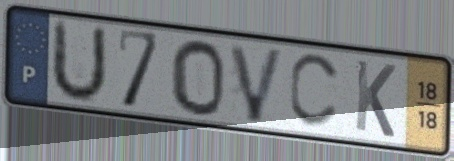7: (116, 26, 160, 111)
C: (286, 52, 344, 132)
K: (352, 56, 399, 141)
O: (168, 37, 227, 119)
U: (47, 17, 109, 106)
V: (226, 41, 288, 126)
